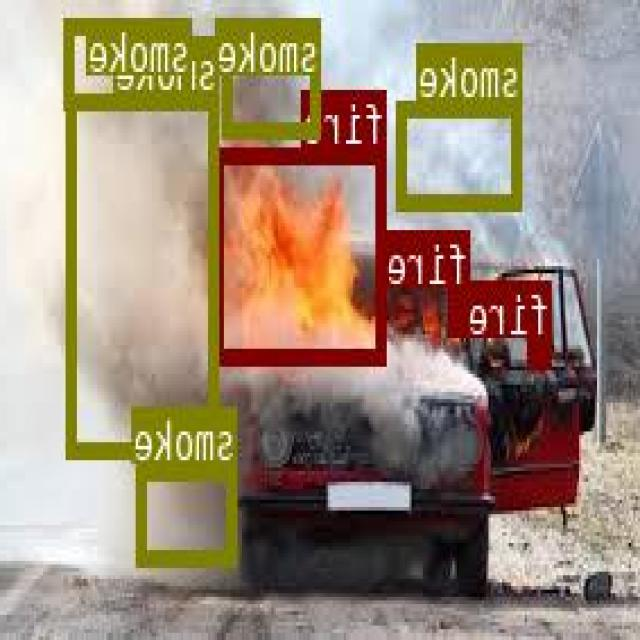fire: (216, 144, 389, 360), (452, 287, 472, 332), (529, 338, 554, 364)
smoke: (70, 90, 222, 456), (399, 99, 524, 208), (66, 15, 194, 106), (225, 17, 322, 134), (140, 463, 238, 563)
